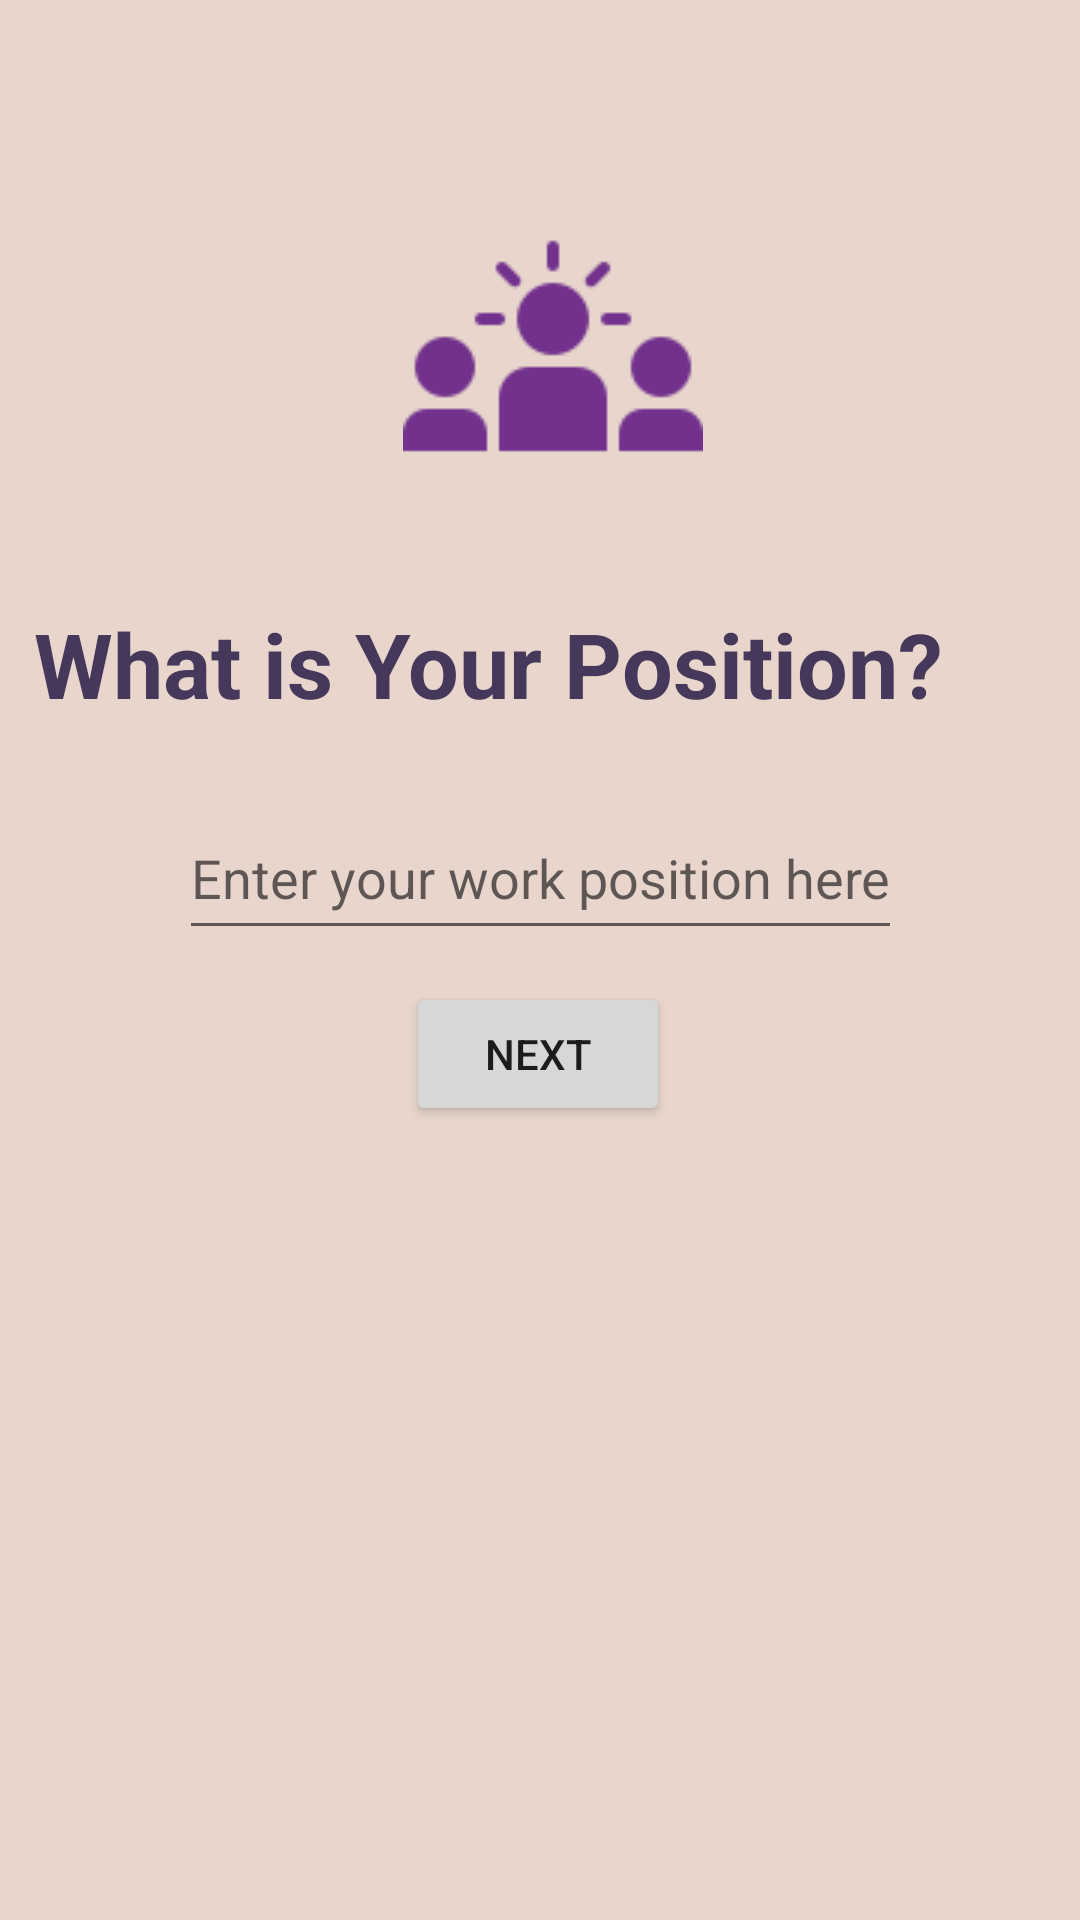

Icon click points for this 1080px x 1920px phone screenshot, format point (x, y):
work position: point (553, 346)
